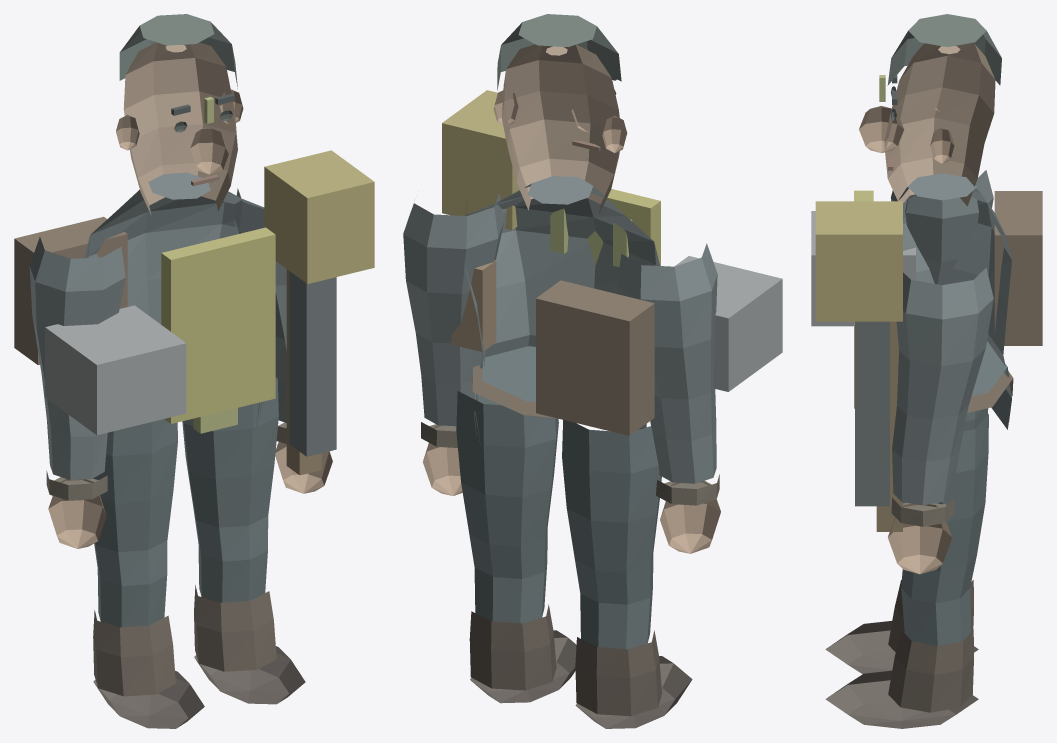
The model's file is modern_builder_1000_2.glb.
The picture shows the model from 3 angles, left to right: view 1: azimuth 30°, elevation 25°; view 2: azimuth 150°, elevation 25°; view 3: azimuth 270°, elevation 25°; orthographic projection. The views are drawn at different scales.
Parts seen in each view (by area): view 1: body_9, rightLeg_0, leftArm_3, leftLeg_0, rightArm_5, head_0, leftArm_0, body_0, rightArm_4, leftLeg_1, rightLeg_1, body_7 (+11 smaller); view 2: leftLeg_0, rightLeg_0, body_7, leftArm_0, body_0, head_0, rightArm_0, leftArm_3, rightArm_5, rightLeg_1, leftLeg_1, head_9 (+12 smaller); view 3: rightArm_0, head_0, rightArm_5, rightLeg_0, body_7, rightArm_4, body_0, rightLeg_1, leftArm_0, rightLeg_2, head_9, rightArm_2 (+9 smaller).
Part boxes in pixels (<box>): body_9: <box>161,227,275,423</box>; rightLeg_0: <box>182,377,278,602</box>; leftArm_3: <box>45,305,186,435</box>; leftLeg_0: <box>93,419,177,627</box>; rightArm_5: <box>264,150,374,283</box>; head_0: <box>123,42,237,215</box>; leftArm_0: <box>29,237,125,480</box>; body_0: <box>84,172,264,419</box>; rightArm_4: <box>289,271,336,456</box>; leftLeg_1: <box>93,610,175,696</box>; rightLeg_1: <box>194,585,276,671</box>; body_7: <box>14,216,127,365</box>; leftLeg_0: <box>562,420,661,649</box>; rightLeg_0: <box>456,391,558,623</box>; body_7: <box>536,280,654,435</box>; leftArm_0: <box>617,243,717,483</box>; body_0: <box>464,176,659,436</box>; head_0: <box>502,44,619,214</box>; rightArm_0: <box>403,193,503,426</box>; leftArm_3: <box>674,256,782,391</box>; rightArm_5: <box>442,90,519,230</box>; rightLeg_1: <box>469,604,556,690</box>; leftLeg_1: <box>575,630,662,716</box>; head_9: <box>497,14,621,90</box>; rightArm_0: <box>892,268,993,505</box>; head_0: <box>884,43,995,206</box>; rightArm_5: <box>815,201,902,321</box>; rightLeg_0: <box>901,414,988,645</box>; body_7: <box>994,191,1042,345</box>; rightArm_4: <box>855,321,889,506</box>; body_0: <box>898,173,1011,421</box>; rightLeg_1: <box>888,629,973,712</box>; leftArm_0: <box>891,170,993,284</box>; rightLeg_2: <box>825,670,978,728</box>; head_9: <box>887,14,1001,85</box>; rightArm_2: <box>887,503,952,574</box>.
Bounding box in the file's own units: 0.782 × 1.68 × 0.53.
